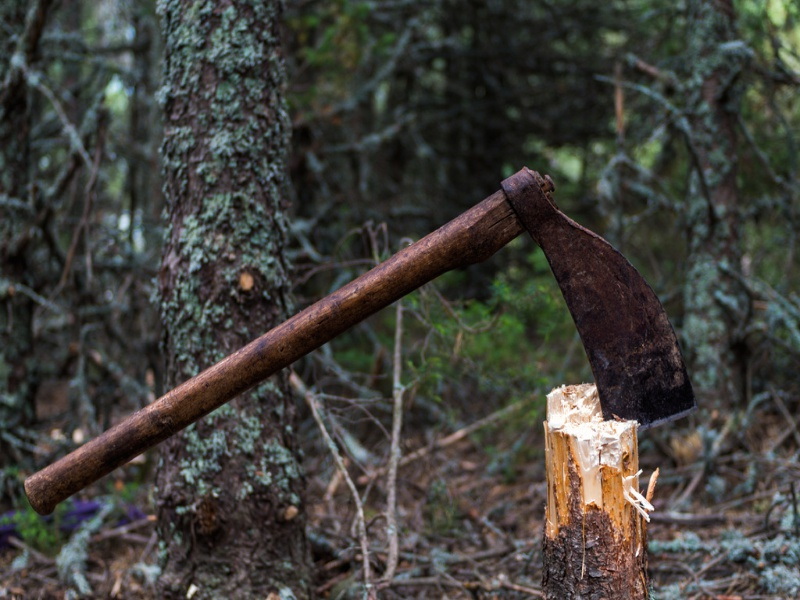axe: (377, 160, 700, 426)
